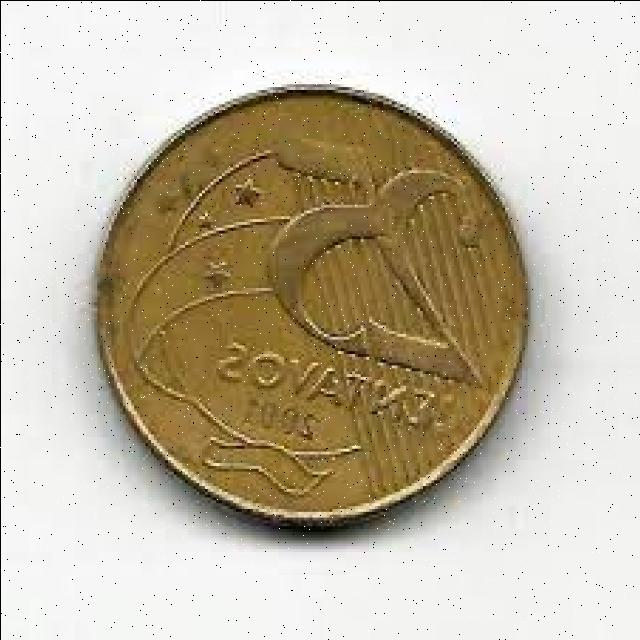25 cent: (94, 84, 522, 518)
